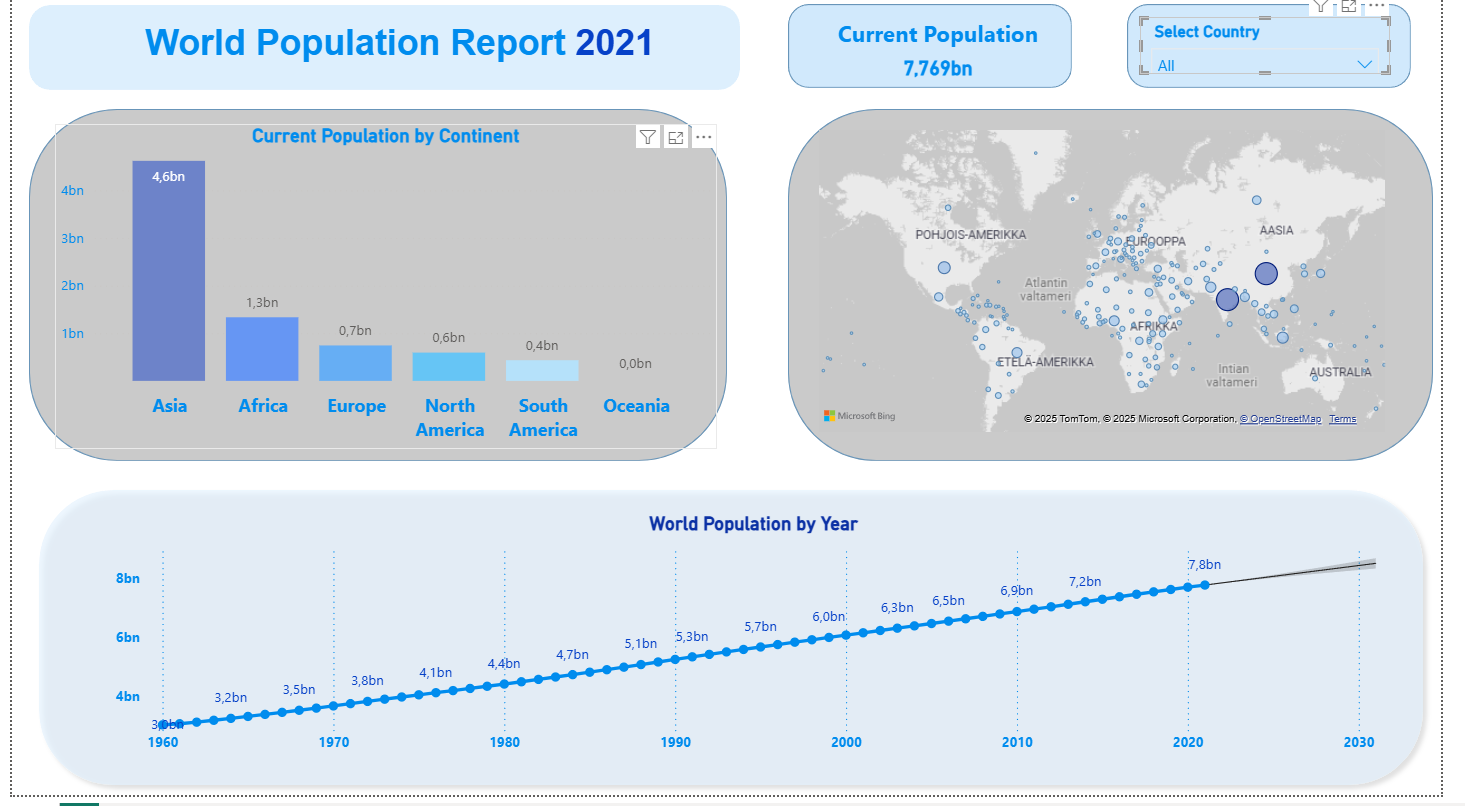

The page's visual inventory and layout, read from the dashboard file:
{"tool":"powerbi","page":{"name":"Page 1","canvas":[1280,720],"ordinal":0},"visuals":[{"type":"shape","box":[998.5,11.6,254.3,75.2],"z":0},{"type":"shape","box":[694.5,106.1,577.6,315.3],"z":500},{"type":"shape","box":[15.2,437.9,1257.3,282.1],"z":1000},{"type":"shape","box":[15.2,105.7,625.1,315.2],"z":2000},{"type":"shape","box":[694.9,11.6,254.3,75.2],"z":3000},{"type":"lineChart","fields":{"Category":["world country population.YearDate.Variation.Date Hierarchy.Year","world country population.YearDate.Variation.Date Hierarchy.Quarter","world country population.YearDate.Variation.Date Hierarchy.Month","world country population.YearDate.Variation.Date Hierarchy.Day"],"Y":["Sum(world country population.Population)"]},"box":[87.8,466.6,1152.5,224.8],"z":4000},{"type":"shape","box":[15.2,12.5,636.7,76.1],"z":5000},{"type":"map","fields":{"Category":["world country location.Country"],"Size":["world country location.CurrentPopulation"]},"box":[717.1,118.9,516.7,281],"z":6000},{"type":"clusteredColumnChart","title":"Current Population by Continent","fields":{"Category":["world country location.Continent"],"Y":["world country location.CurrentPopulation"]},"box":[38.5,119.1,592.8,291],"z":7000},{"type":"textbox","box":[75.2,23.3,544.5,63.6],"z":9000},{"type":"slicer","fields":{"Values":["world country location.Country"]},"box":[1010.1,23.3,223.9,51],"z":10000},{"type":"cardVisual","title":"Total Population","fields":{"Data":["world country location.CurrentPopulation"]},"box":[717.3,6.3,224.8,85.1],"z":11000}]}

Visuals, with their boxes in screenshot pixels (x1, y1, x2, y2), scaled from the page's 1280x720 canvas onto the 1465x806 screenshot:
shape: [x1=1143, y1=13, x2=1434, y2=97]
shape: [x1=795, y1=119, x2=1456, y2=472]
shape: [x1=17, y1=490, x2=1456, y2=805]
shape: [x1=17, y1=118, x2=733, y2=471]
shape: [x1=795, y1=13, x2=1086, y2=97]
lineChart - world country population.YearDate.Variation.Date Hierarchy.Year x world country population.YearDate.Variation.Date Hierarchy.Quarter: [x1=100, y1=522, x2=1420, y2=774]
shape: [x1=17, y1=14, x2=746, y2=99]
map - world country location.Country x world country location.CurrentPopulation: [x1=821, y1=133, x2=1412, y2=448]
"Current Population by Continent" clusteredColumnChart: [x1=44, y1=133, x2=723, y2=459]
textbox: [x1=86, y1=26, x2=709, y2=97]
slicer - world country location.Country: [x1=1156, y1=26, x2=1412, y2=83]
"Total Population" cardVisual: [x1=821, y1=7, x2=1078, y2=102]
